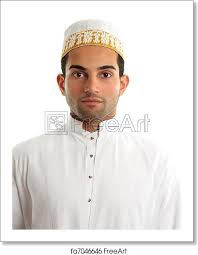middle_eastern_male: (62, 43, 129, 115)
